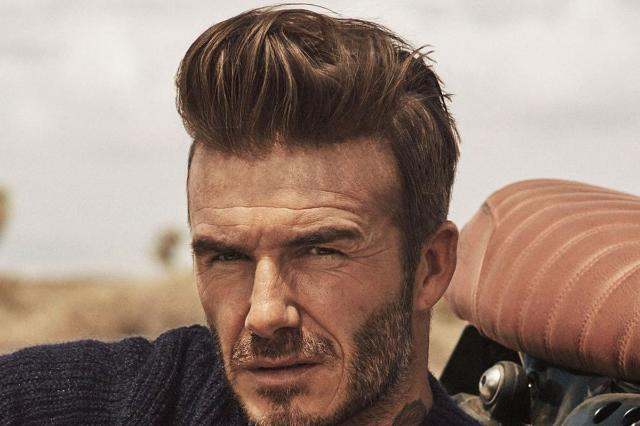bunny_line: (272, 266, 296, 292)
chin: (324, 389, 341, 408)
crows_feet: (347, 245, 369, 265), (196, 269, 214, 289)
forehead: (206, 200, 344, 218)
gummy_smile: (296, 302, 340, 340), (227, 321, 246, 355)
sad_smile: (334, 350, 350, 382)
